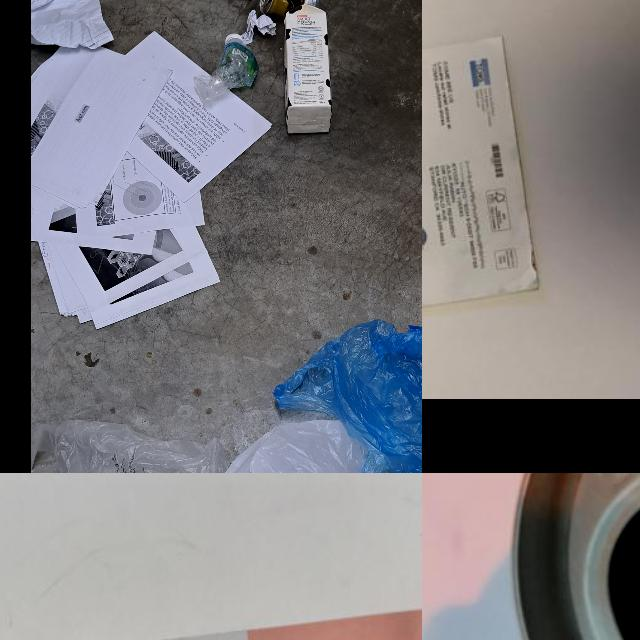aba de lata: (261, 0, 268, 6)
caixinha: (284, 0, 332, 133)
garrafa plástica: (194, 38, 260, 104)
lata: (510, 473, 640, 640), (260, 0, 320, 18)
papel: (32, 32, 274, 330), (422, 36, 536, 348), (0, 598, 422, 640), (31, 0, 113, 47), (242, 10, 278, 44)
sacola plástica: (275, 317, 422, 473), (210, 421, 422, 473), (31, 418, 231, 473)
tampa plástica: (225, 33, 242, 45)
